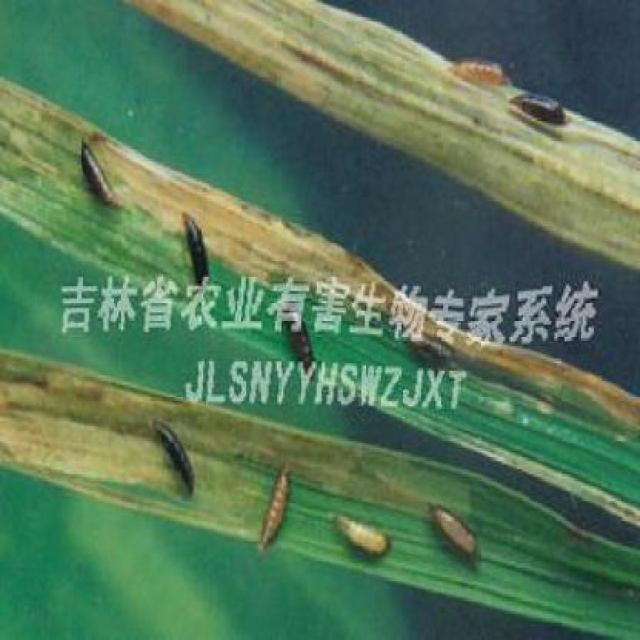whorl-maggot: (67, 128, 122, 215), (151, 417, 198, 511), (325, 502, 393, 566), (254, 457, 297, 557), (427, 497, 485, 566), (506, 74, 571, 129), (445, 49, 512, 94), (180, 206, 214, 272)
